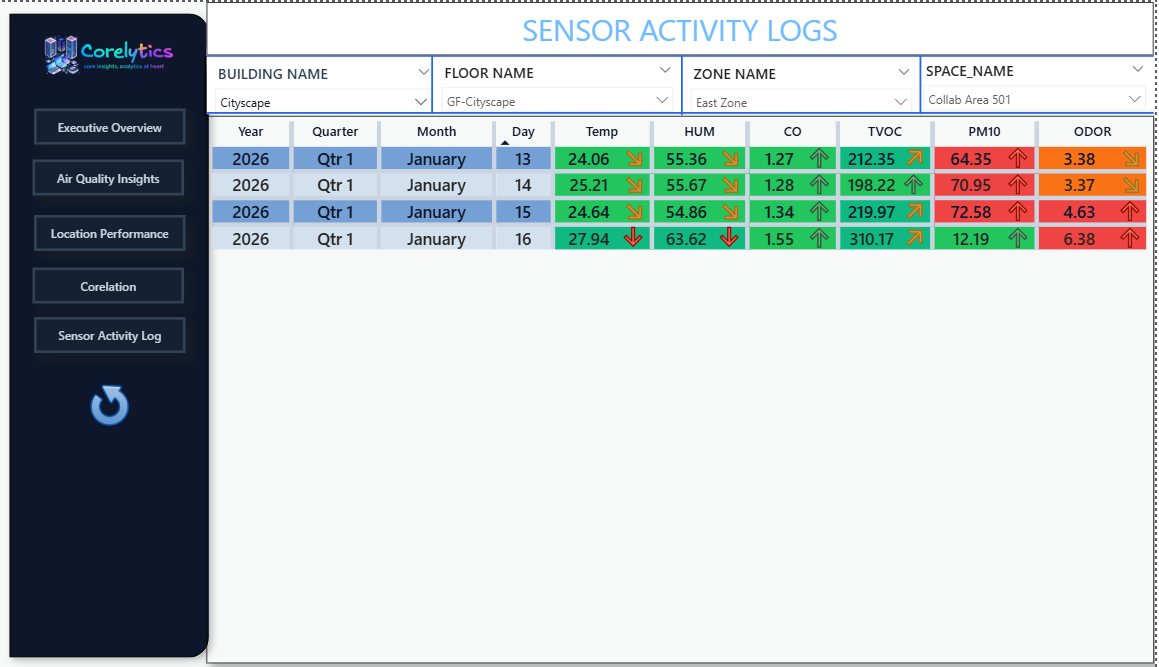

What the dashboard file says about the page in this screenshot:
{"tool":"powerbi","page":{"name":"sensor Activity log","canvas":[1300,750],"ordinal":4},"visuals":[{"type":"shape","box":[0,0,250,750],"z":0},{"type":"image","box":[0,0,249.6,119.8],"z":1000},{"type":"actionButton","box":[40.5,119.8,170.4,40.5],"z":2000},{"type":"actionButton","box":[38.8,177.1,170.4,40.5],"z":3000},{"type":"actionButton","box":[40.5,239.5,170.4,40.5],"z":4000},{"type":"actionButton","box":[38.8,298.5,170.4,40.5],"z":5000},{"type":"actionButton","box":[40.5,354.2,170.4,40.5],"z":7000},{"type":"slicer","fields":{"Values":["DIM_SPACE.SPACE_NAME"]},"box":[1030,60,270,60],"z":8000},{"type":"slicer","fields":{"Values":["DIM_ZONE.ZONE_NAME"]},"box":[768.3,63.3,268.3,61.7],"z":9000},{"type":"tableEx","fields":{"Values":["FACT_SENSOR_READINGS.READING_TIMESTAMP.Variation.Date Hierarchy.Year","FACT_SENSOR_READINGS.READING_TIMESTAMP.Variation.Date Hierarchy.Quarter","FACT_SENSOR_READINGS.READING_TIMESTAMP.Variation.Date Hierarchy.Month","FACT_SENSOR_READINGS.READING_TIMESTAMP.Variation.Date Hierarchy.Day","FACT_SENSOR_READINGS.Average Temp","FACT_SENSOR_READINGS.Avg_hum","FACT_SENSOR_READINGS.Avg Co","FACT_SENSOR_READINGS.Avg TVOC","FACT_SENSOR_READINGS.Avg PM10","FACT_SENSOR_READINGS.Avg odor"]},"box":[234.5,127.6,1065.5,615.5],"z":10000},{"type":"slicer","fields":{"Values":["DIM_FLOOR.FLOOR_NAME"]},"box":[488.3,61.7,280,63.3],"z":11000},{"type":"slicer","fields":{"Values":["DIM_BUILDING.BUILDING_NAME"]},"box":[235,63.3,263.3,61.7],"z":12000},{"type":"shape","box":[235,50,1065,20],"z":13000},{"type":"shape","box":[215,60,38.3,68.3],"z":14000},{"type":"shape","box":[476.7,60,21.7,65],"z":15000},{"type":"shape","box":[756.7,58.3,23.3,68.3],"z":16000},{"type":"shape","box":[1030,60,13.3,65],"z":17000},{"type":"shape","box":[235,115,1065,20],"z":18000},{"type":"shape","box":[235,0,1065,60],"z":19000}]}

Visuals, with their boxes in screenshot pixels (x1, y1, x2, y2), scaled from the page's 1300x750 canvas onto the 1159x667 screenshot:
shape: 0,0,223,666
image: 0,0,223,107
actionButton: 36,107,188,143
actionButton: 35,158,187,194
actionButton: 36,213,188,249
actionButton: 35,265,187,301
actionButton: 36,315,188,351
slicer - DIM_SPACE.SPACE_NAME: 918,53,1158,107
slicer - DIM_ZONE.ZONE_NAME: 685,56,924,111
tableEx - FACT_SENSOR_READINGS.READING_TIMESTAMP.Variation.Date Hierarchy.Year x FACT_SENSOR_READINGS.READING_TIMESTAMP.Variation.Date Hierarchy.Quarter: 209,113,1158,661
slicer - DIM_FLOOR.FLOOR_NAME: 435,55,685,111
slicer - DIM_BUILDING.BUILDING_NAME: 210,56,444,111
shape: 210,44,1158,62
shape: 192,53,226,114
shape: 425,53,444,111
shape: 675,52,695,113
shape: 918,53,930,111
shape: 210,102,1158,120
shape: 210,0,1158,53
